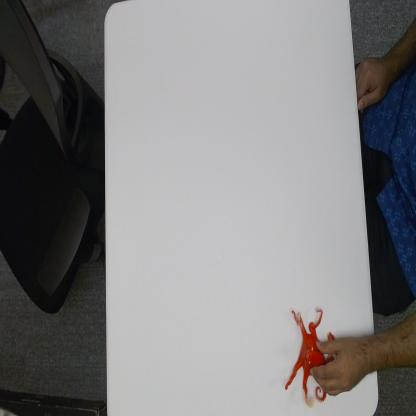Hand: (308, 333, 391, 399)
Octopus: (283, 305, 338, 409)
